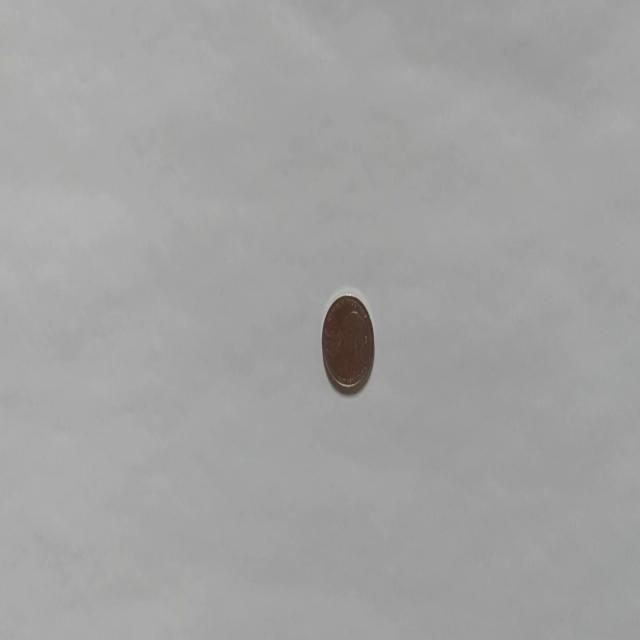seribu rupiah koin: (320, 288, 375, 395)
